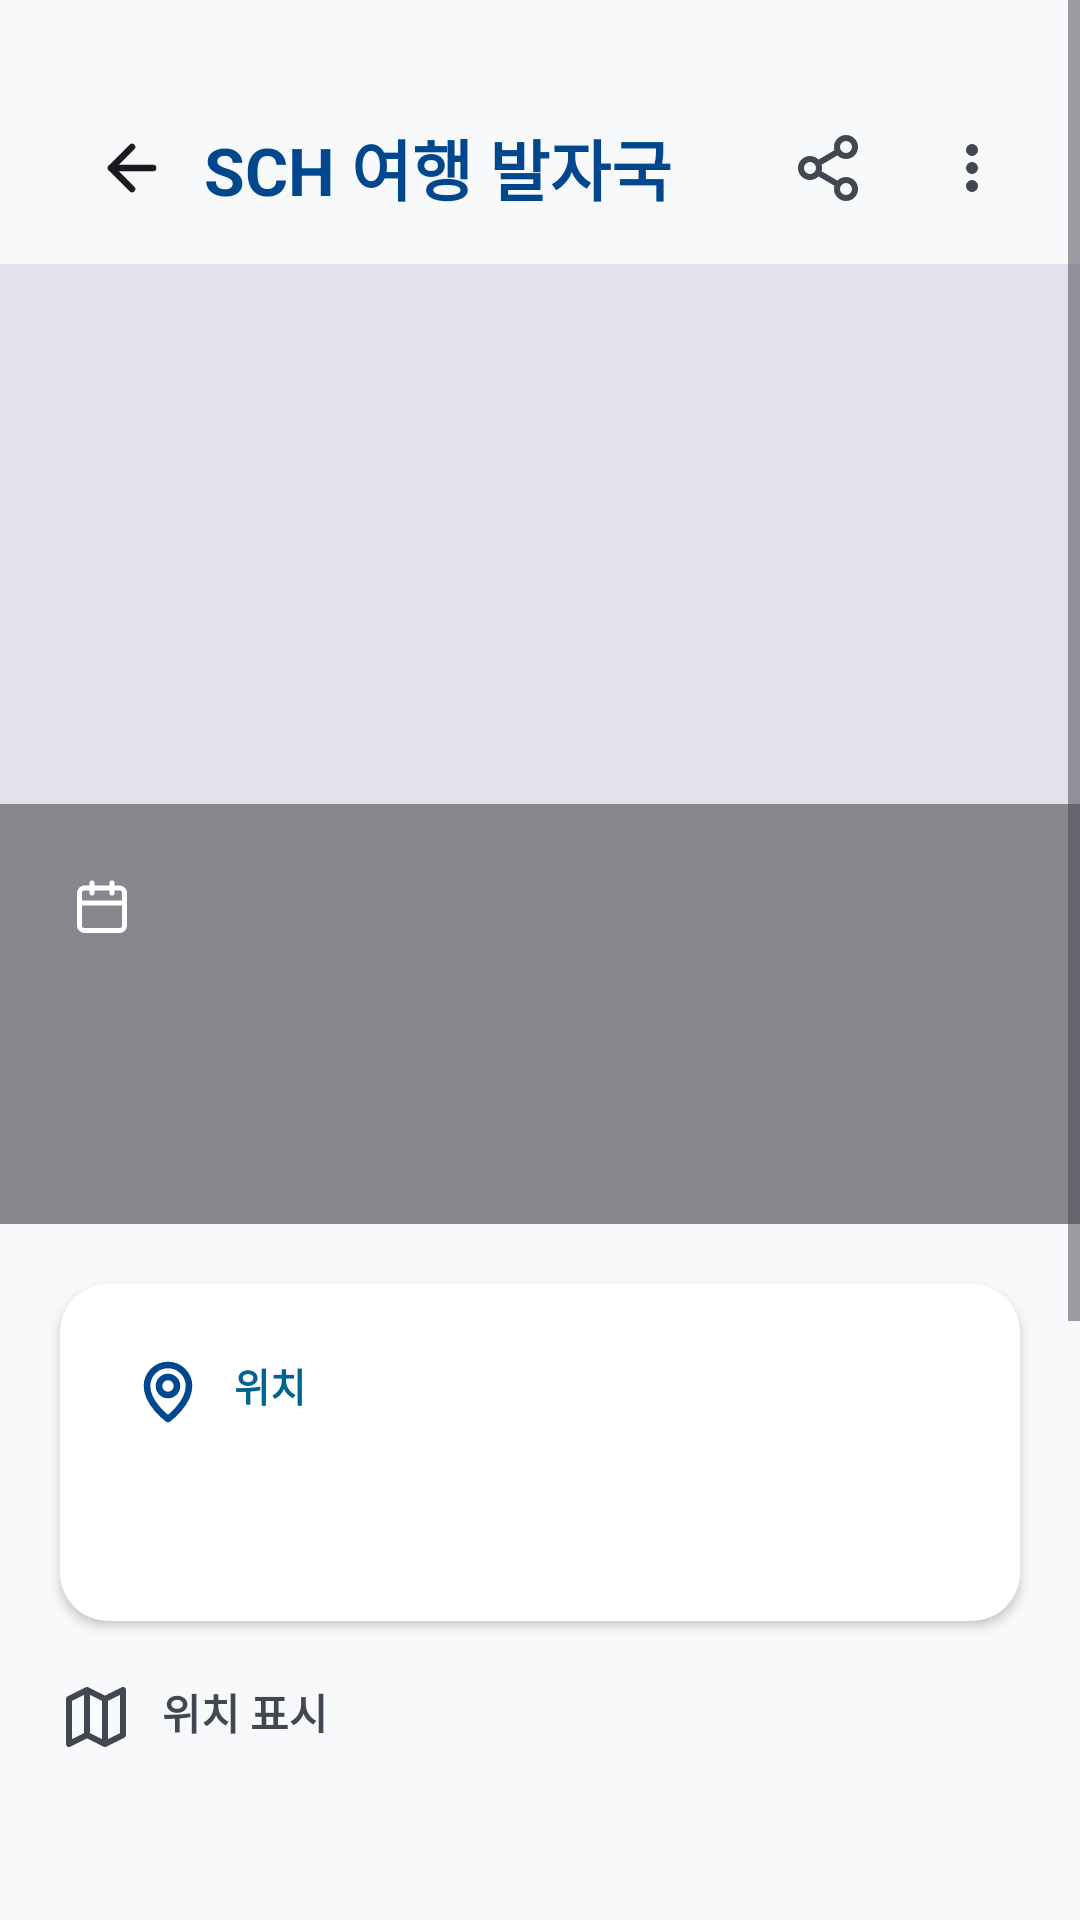

Icons on this 1080 × 1920 Android screen, each with the point to tap as (x=x, y=y):
공유: (x=828, y=168)
뒤로가기: (x=132, y=168)
옵션: (x=972, y=168)
